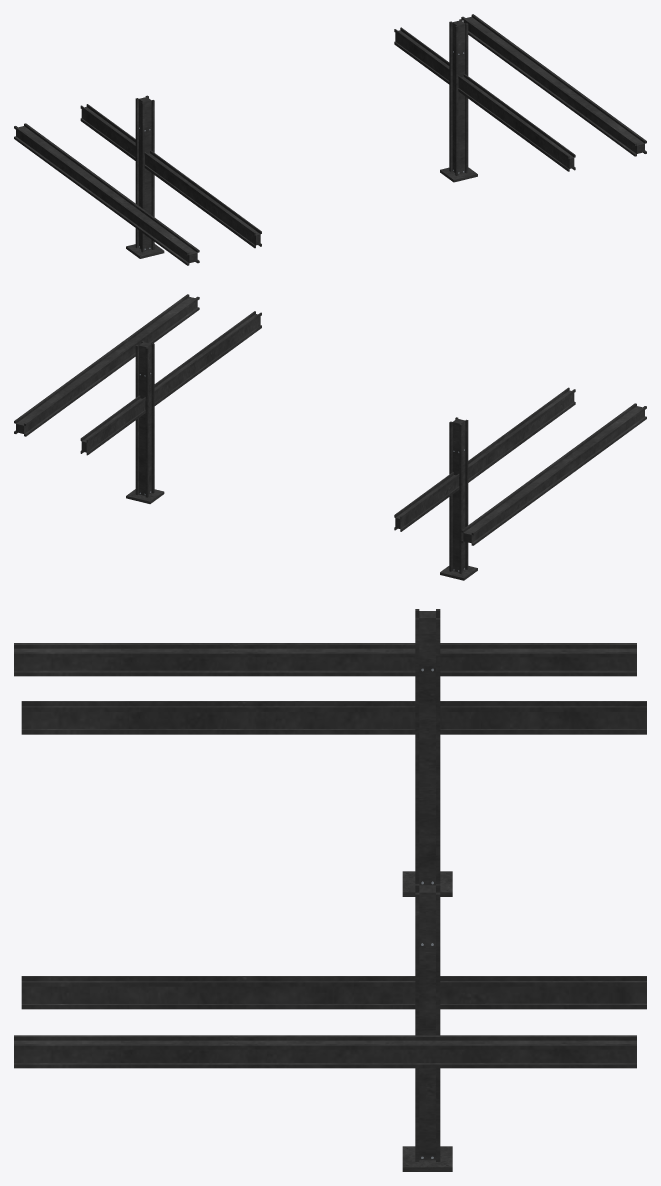
The model's file is Pillars.glb.
The picture shows the model from 3 angles, top to bottom: view 1: azimuth 30°, elevation 25°; view 2: azimuth 150°, elevation 25°; view 3: azimuth 270°, elevation 25°; orthographic projection. The views are drawn at different scales.
Visible parts, largest first — view 1: Pillars.003; view 2: Pillars.003; view 3: Pillars.003.
Part boxes in pixels (x1=…): Pillars.003: x1=14, y1=14, x2=646, y2=265; Pillars.003: x1=14, y1=294, x2=646, y2=580; Pillars.003: x1=14, y1=609, x2=646, y2=1171.
Size of what is drawn, in the model's own units: 19.04 by 6 by 12.65.
2 materials, 2 textured.
